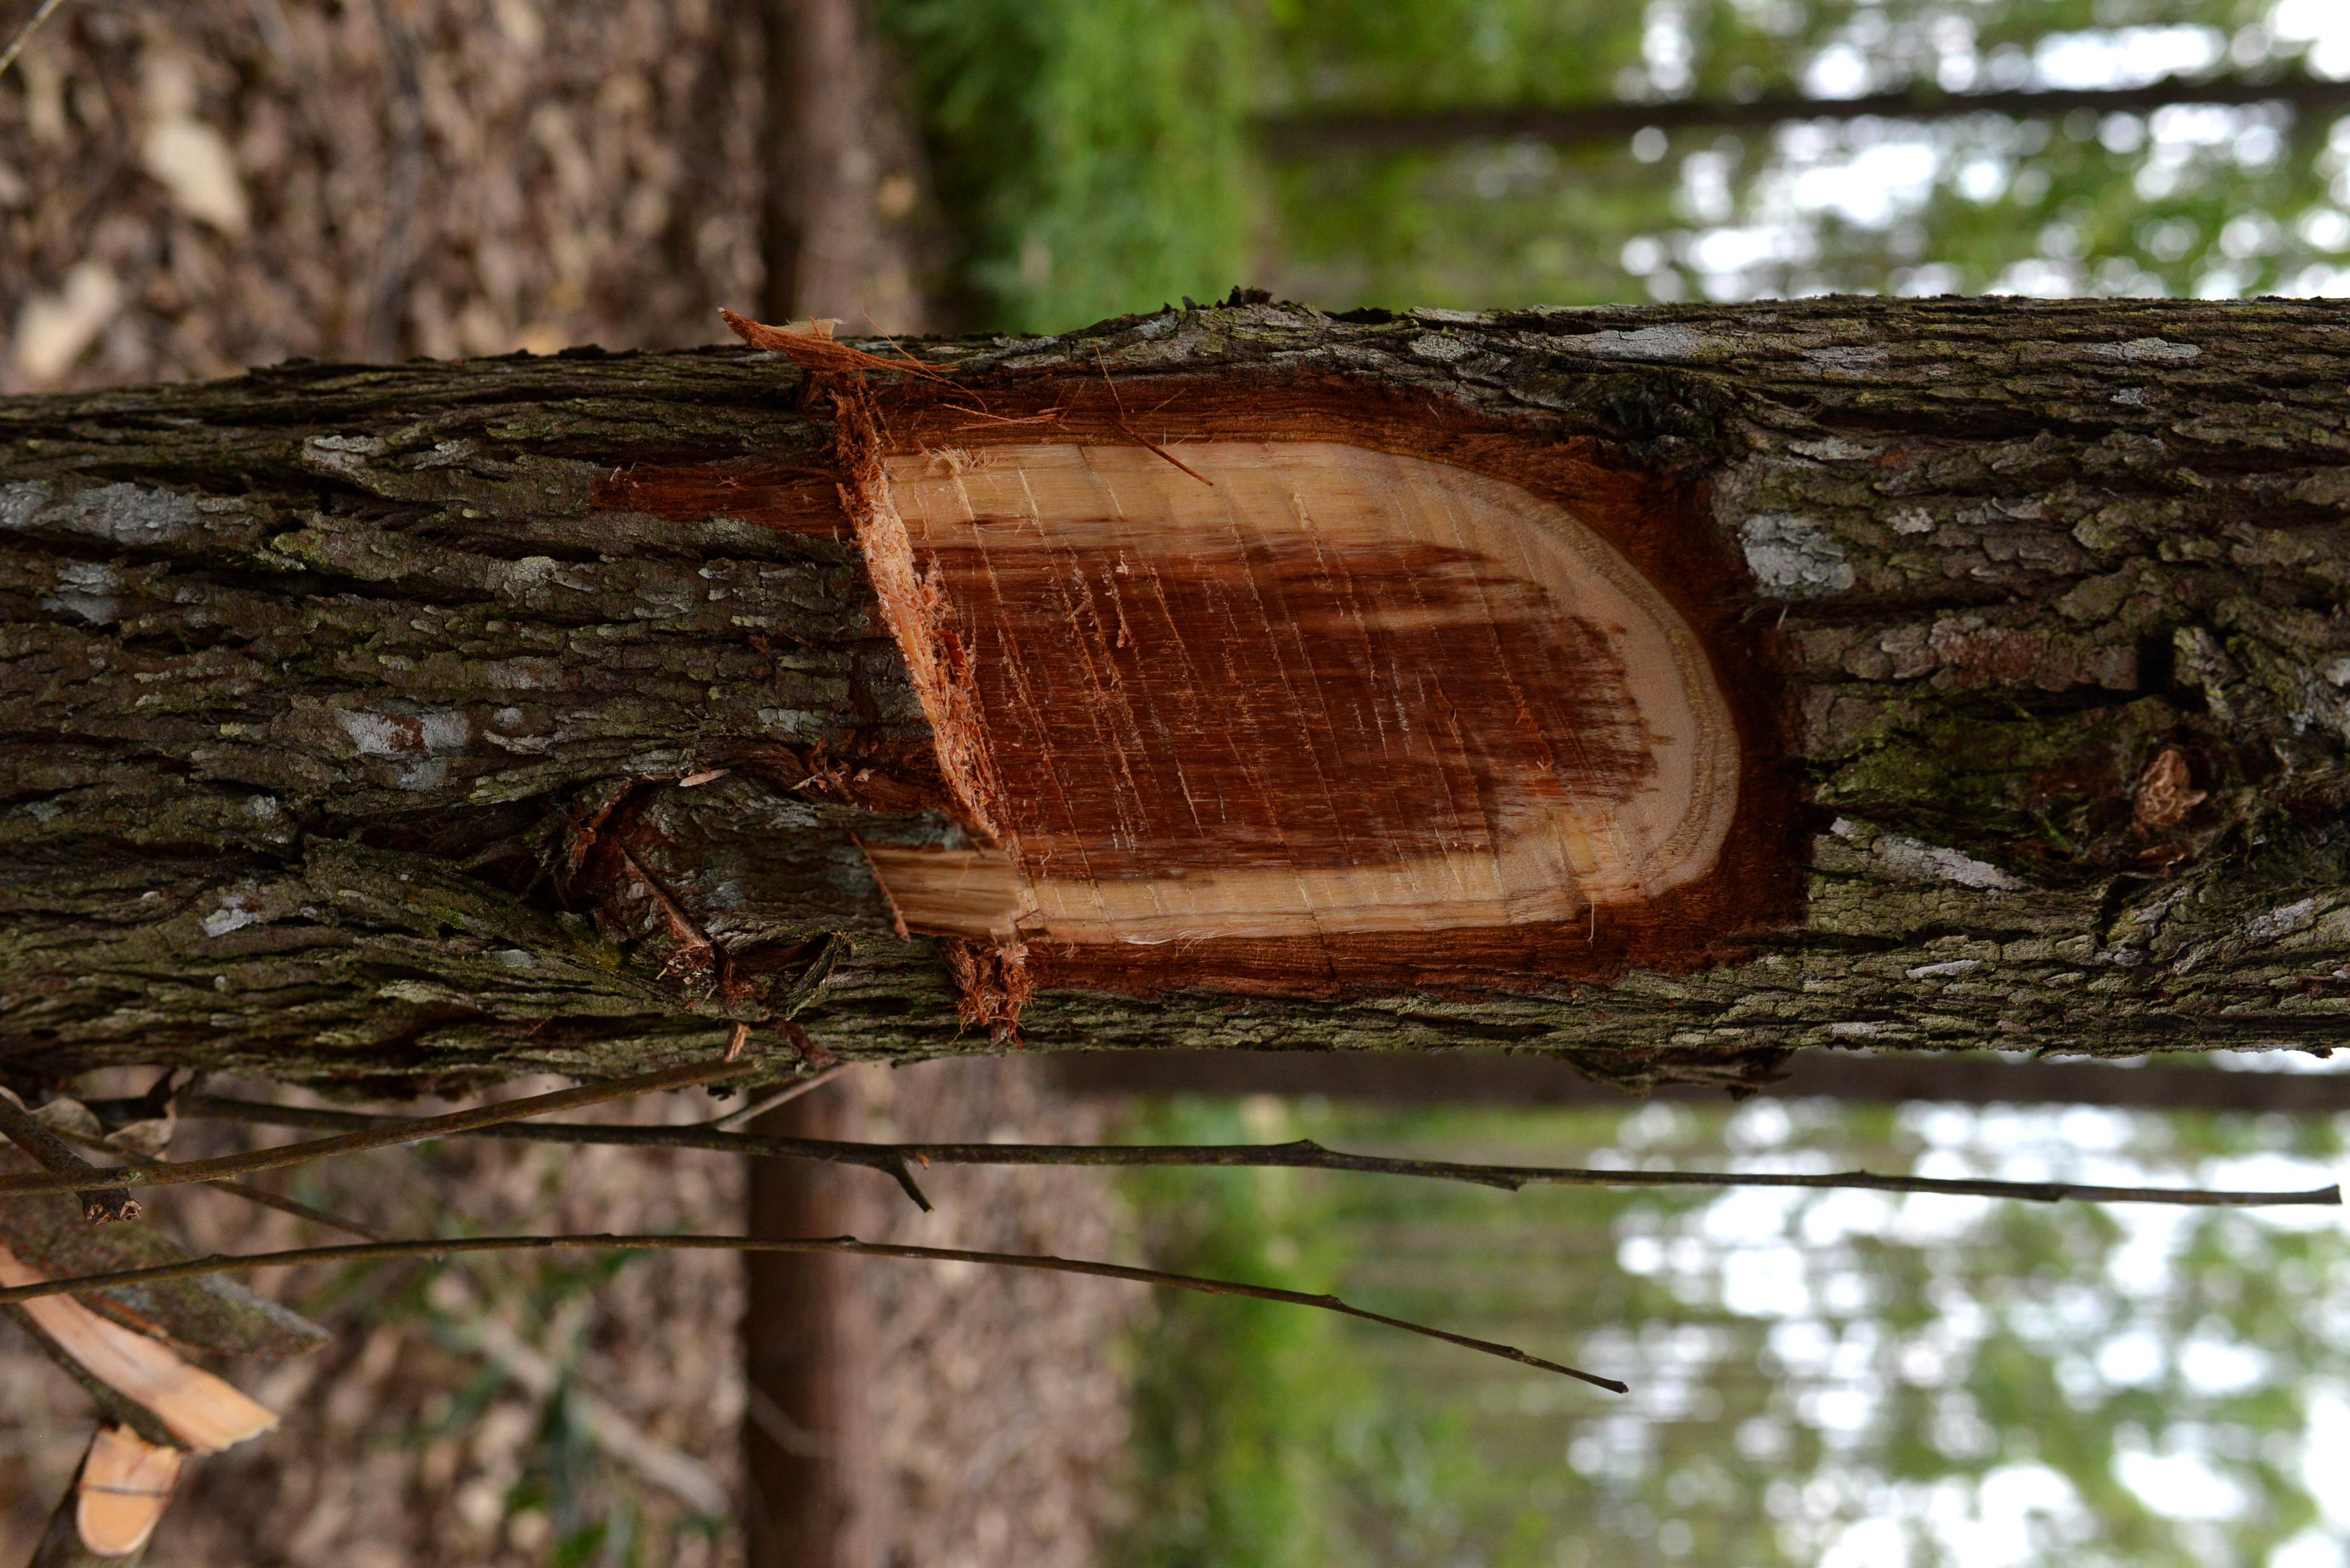Ceratocystis - Inner: (812, 360, 1815, 996)
